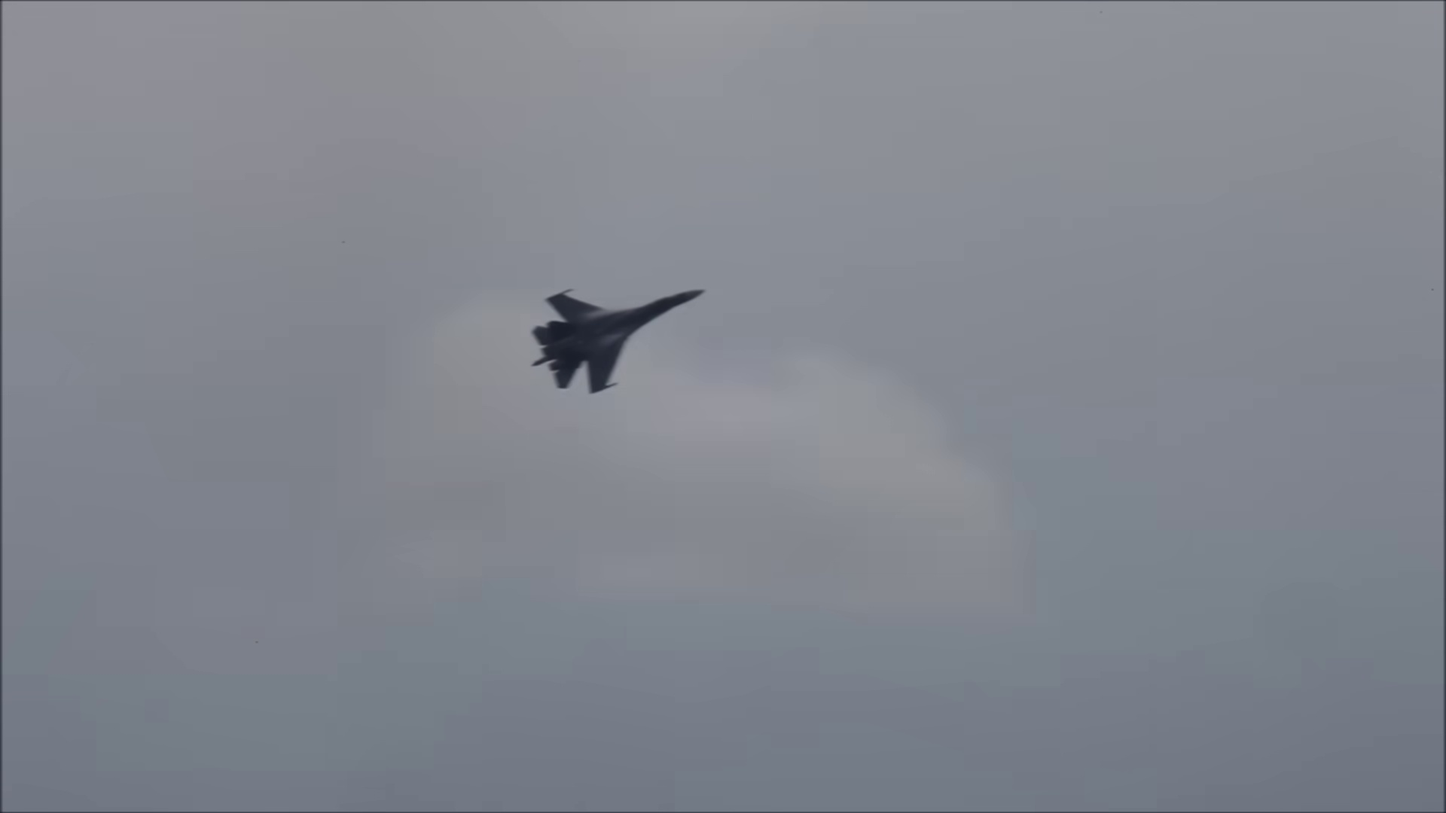Su35: (527, 280, 713, 399)
